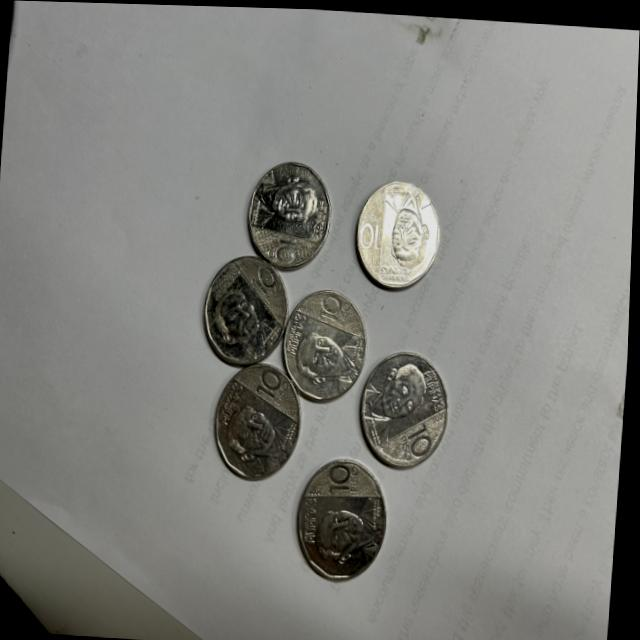10_New_Front: (398, 416, 452, 464), (323, 452, 369, 498), (248, 258, 285, 309), (251, 368, 293, 408), (311, 288, 356, 325), (356, 202, 386, 256), (265, 228, 301, 262)
